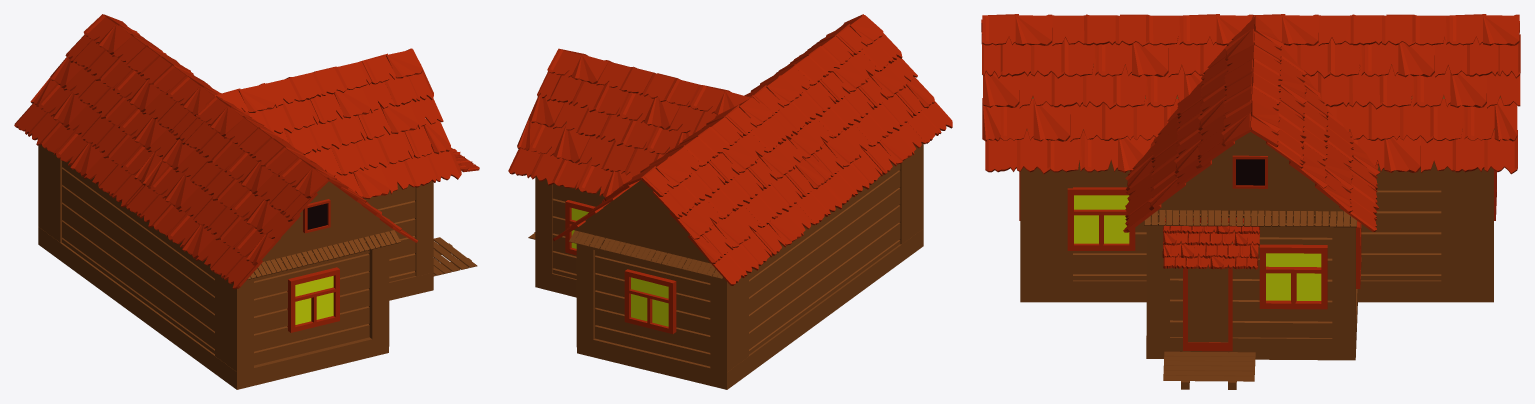
Rendered from izba4.fbx.
3 renders of one model, left to right at view 1: azimuth 30°, elevation 25°; view 2: azimuth 150°, elevation 25°; view 3: azimuth 270°, elevation 25°, orthographic. The views are drawn at different scales.
Parts seen in each view (by area): view 1: Grid.010, Cube.004, Grid.019, Grid.017, Grid.014; view 2: Grid.010, Cube.004, Grid.019, Grid.017; view 3: Grid.010, Cube.004, Grid.019, Grid.017, Grid.008, Grid.006.
Boxes of the visible parts, x1=… form: Grid.010: x1=14, y1=14, x2=461, y2=289; Cube.004: x1=38, y1=128, x2=477, y2=389; Grid.019: x1=287, y1=199, x2=339, y2=332; Grid.017: x1=295, y1=276, x2=333, y2=324; Grid.014: x1=307, y1=203, x2=327, y2=229; Grid.010: x1=508, y1=14, x2=952, y2=285; Cube.004: x1=528, y1=123, x2=923, y2=389; Grid.019: x1=565, y1=200, x2=676, y2=333; Grid.017: x1=571, y1=208, x2=668, y2=326; Grid.010: x1=981, y1=14, x2=1520, y2=232; Cube.004: x1=1020, y1=65, x2=1500, y2=389; Grid.019: x1=1019, y1=155, x2=1496, y2=351; Grid.017: x1=1074, y1=195, x2=1321, y2=300; Grid.008: x1=1162, y1=217, x2=1260, y2=269; Grid.006: x1=1236, y1=159, x2=1264, y2=185.
Size of the model in its own units: 3800 by 2306 by 4629.
